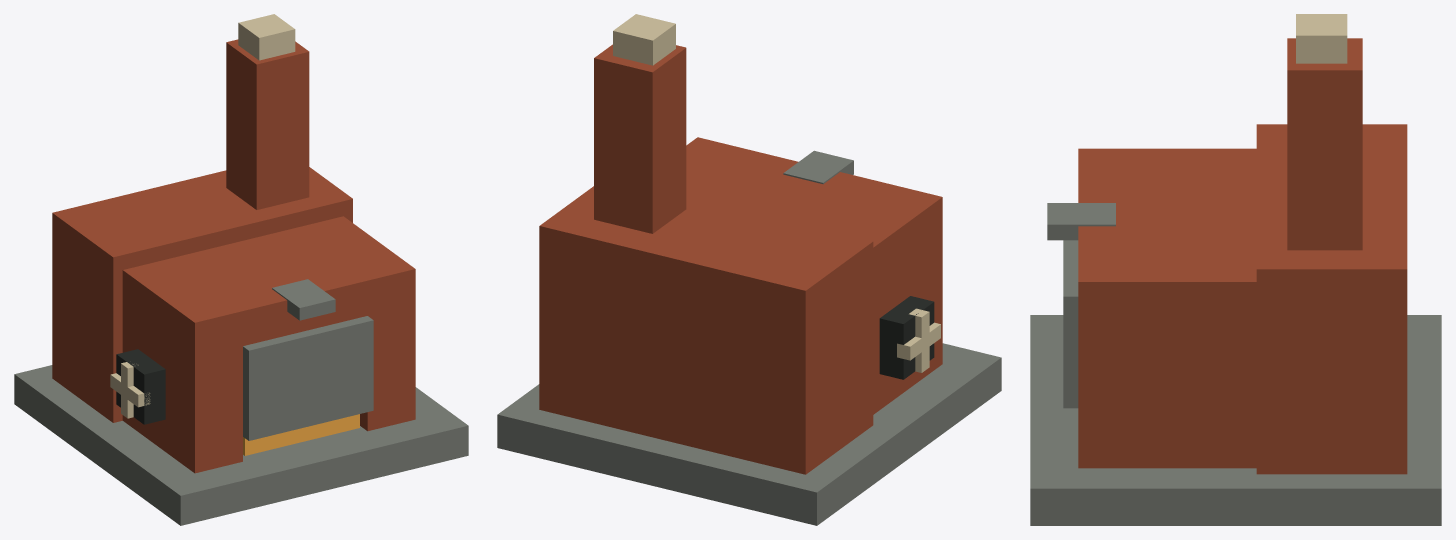
The model's file is furnace.gltf.
3 renders of one model, left to right at view 1: azimuth 30°, elevation 25°; view 2: azimuth 150°, elevation 25°; view 3: azimuth 270°, elevation 25°, orthographic. The views are drawn at different scales.
Parts seen in each view (by area): view 1: back, lintel, base, chimney, door, left, right, fanHousing, puff, glow, spout, fanBladeY (+1 smaller); view 2: back, base, lintel, chimney, left, fanHousing, puff, spout, fanBladeZ, fanBladeY; view 3: back, base, lintel, right, chimney, door, puff, spout.
Part boxes in pixels (x1=…): back: x1=52, y1=167, x2=352, y2=422; lintel: x1=122, y1=216, x2=415, y2=362; base: x1=14, y1=365, x2=468, y2=525; chimney: x1=226, y1=39, x2=309, y2=209; door: x1=243, y1=316, x2=373, y2=440; left: x1=122, y1=295, x2=242, y2=473; right: x1=360, y1=294, x2=415, y2=431; fanHousing: x1=116, y1=349, x2=165, y2=424; puff: x1=238, y1=14, x2=295, y2=60; glow: x1=243, y1=414, x2=359, y2=455; spout: x1=272, y1=279, x2=335, y2=320; fanBladeY: x1=121, y1=362, x2=138, y2=418; back: x1=539, y1=186, x2=873, y2=474; base: x1=497, y1=343, x2=1001, y2=525; lintel: x1=686, y1=137, x2=942, y2=291; chimney: x1=594, y1=44, x2=686, y2=233; left: x1=873, y1=225, x2=942, y2=414; fanHousing: x1=879, y1=296, x2=934, y2=379; puff: x1=613, y1=14, x2=675, y2=65; spout: x1=783, y1=150, x2=853, y2=184; fanBladeZ: x1=897, y1=322, x2=940, y2=360; fanBladeY: x1=909, y1=308, x2=929, y2=372; back: x1=1256, y1=124, x2=1407, y2=474; base: x1=1030, y1=315, x2=1441, y2=525; lintel: x1=1078, y1=148, x2=1256, y2=331; right: x1=1078, y1=313, x2=1256, y2=468; chimney: x1=1287, y1=38, x2=1362, y2=250; door: x1=1063, y1=240, x2=1078, y2=408; puff: x1=1296, y1=14, x2=1347, y2=63; spout: x1=1047, y1=203, x2=1115, y2=240.
Size of the model in its own units: 3 by 3.62 by 3.
